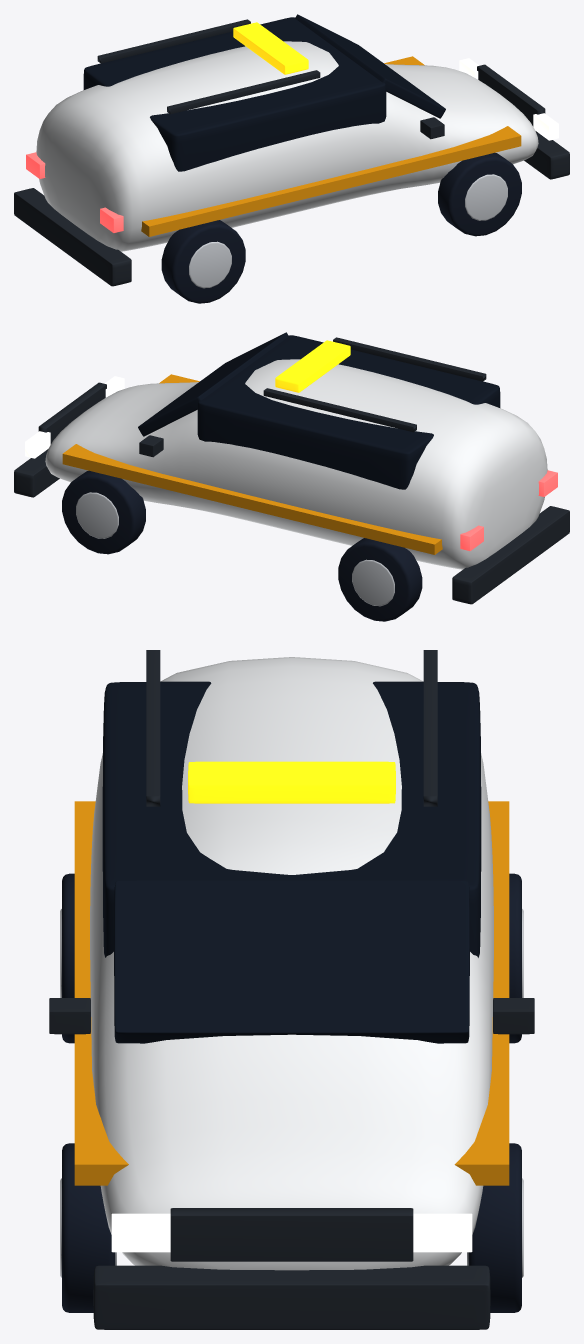
File: vehiculo_servicio.glb
The picture shows the model from 3 angles, top to bottom: view 1: azimuth 30°, elevation 25°; view 2: azimuth 150°, elevation 25°; view 3: azimuth 270°, elevation 25°; orthographic projection. The views are drawn at different scales.
Visible parts, largest first — view 1: CarroceriaSUV, Cube, Cube.005, Cube.002, Cylinder, Cylinder.004, Cube.001, Cube.010, Cylinder.005, Cylinder.001, Cube.007, Cube.009 (+6 smaller); view 2: CarroceriaSUV, Cube, Cube.005, Cube.002, Cylinder.002, Cylinder.006, Cube.001, Cube.010, Cylinder.007, Cylinder.003, Cube.009, Cube.007 (+6 smaller); view 3: CarroceriaSUV, Cube.001, Cube, Cube.003, Cube.005, Cube.004, Cube.010, Cylinder.004, Cylinder.006, Cube.011, Cube.013, Cube.007 (+5 smaller).
Boxes of the visible parts, bbox=[...] form: CarroceriaSUV: bbox=[36, 41, 538, 251]; Cube: bbox=[83, 17, 386, 171]; Cube.005: bbox=[141, 56, 521, 236]; Cube.002: bbox=[14, 188, 131, 286]; Cylinder: bbox=[161, 220, 245, 303]; Cylinder.004: bbox=[438, 152, 521, 236]; Cube.001: bbox=[295, 14, 445, 118]; Cube.010: bbox=[233, 22, 308, 74]; Cylinder.005: bbox=[465, 174, 507, 220]; Cylinder.001: bbox=[189, 241, 231, 288]; Cube.007: bbox=[167, 70, 320, 114]; Cube.009: bbox=[97, 19, 250, 63]; CarroceriaSUV: bbox=[45, 359, 547, 569]; Cube: bbox=[197, 335, 500, 489]; Cube.005: bbox=[62, 374, 442, 554]; Cube.002: bbox=[452, 506, 569, 604]; Cylinder.002: bbox=[338, 538, 422, 621]; Cylinder.006: bbox=[62, 470, 145, 554]; Cube.001: bbox=[138, 332, 288, 436]; Cube.010: bbox=[275, 340, 350, 392]; Cylinder.007: bbox=[76, 492, 118, 538]; Cylinder.003: bbox=[352, 559, 394, 606]; Cube.009: bbox=[263, 388, 416, 432]; Cube.007: bbox=[333, 337, 486, 381]; CarroceriaSUV: bbox=[90, 657, 493, 1270]; Cube.001: bbox=[114, 880, 469, 1043]; Cube: bbox=[102, 681, 481, 957]; Cube.003: bbox=[93, 1265, 490, 1329]; Cube.005: bbox=[74, 801, 509, 1185]; Cube.004: bbox=[170, 1208, 413, 1261]; Cube.010: bbox=[188, 761, 395, 803]; Cylinder.004: bbox=[62, 1143, 115, 1312]; Cylinder.006: bbox=[468, 1143, 521, 1312]; Cube.011: bbox=[111, 1213, 170, 1252]; Cube.013: bbox=[413, 1213, 472, 1252]; Cube.007: bbox=[146, 650, 160, 806].
Bounding box in the file's own units: 4.58 × 1.8 × 2.1.
